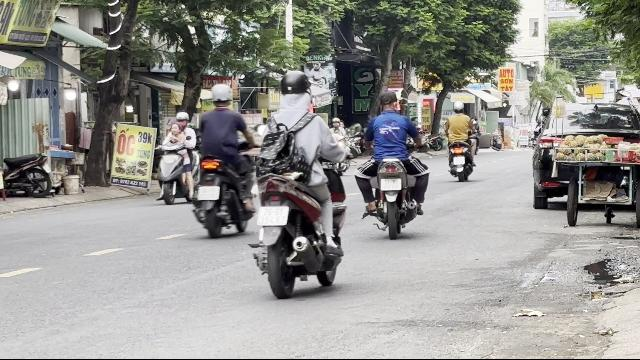helmet: (280, 70, 310, 102), (210, 83, 232, 107), (174, 112, 188, 126)
licenseplate: (257, 206, 289, 226), (197, 186, 219, 200), (381, 179, 402, 190)
motorcyclist: (251, 66, 351, 298), (354, 88, 430, 236), (191, 82, 257, 238), (152, 110, 196, 204)
nohelmet: (378, 90, 400, 112), (169, 124, 183, 136)
